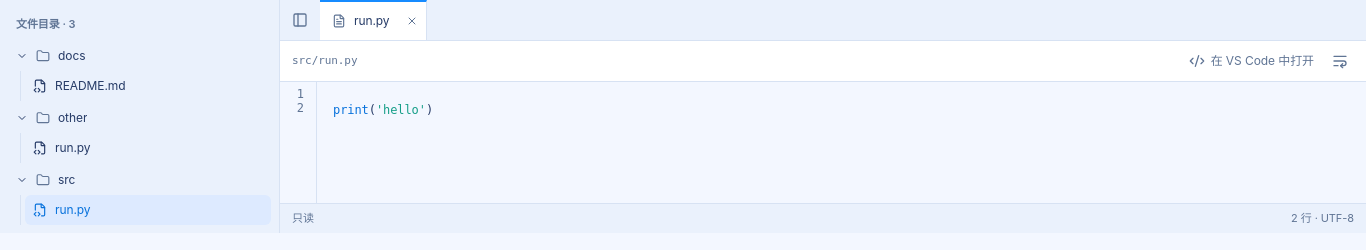
Test: prevents duplicate opening requests and supports retry after failure
Step 1. Click the button "在 VS Code 中打开" → (1251, 61), box top-left (1181, 48), bottom-right (1322, 74)
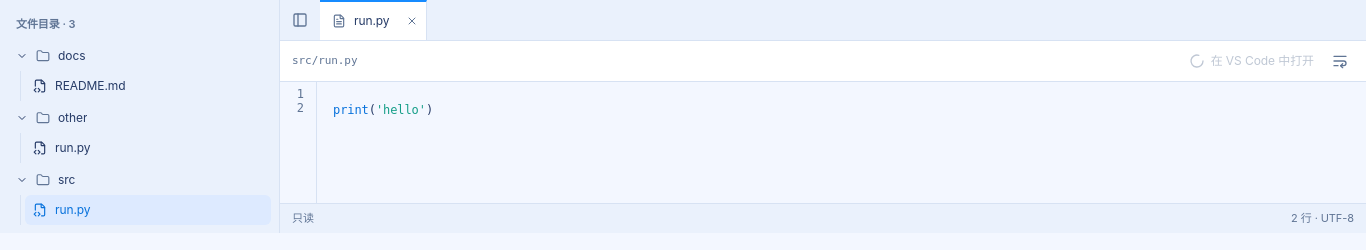
Now the button "在 VS Code 中打开" is disabled
Step 2. Click the button "在 VS Code 中打开" → (1251, 61), box top-left (1181, 48), bottom-right (1322, 74)
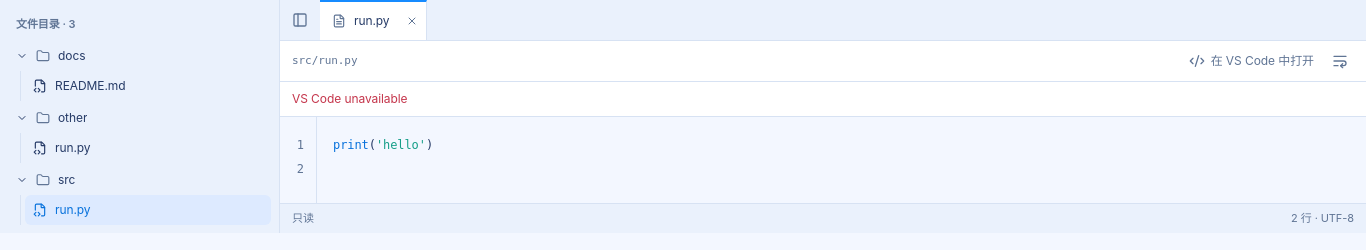
Now the message "VS Code unavailable" is shown, box top-left (280, 82), bottom-right (1365, 117)
Step 3. Click the button "在 VS Code 中打开" → (1251, 61), box top-left (1181, 48), bottom-right (1322, 74)
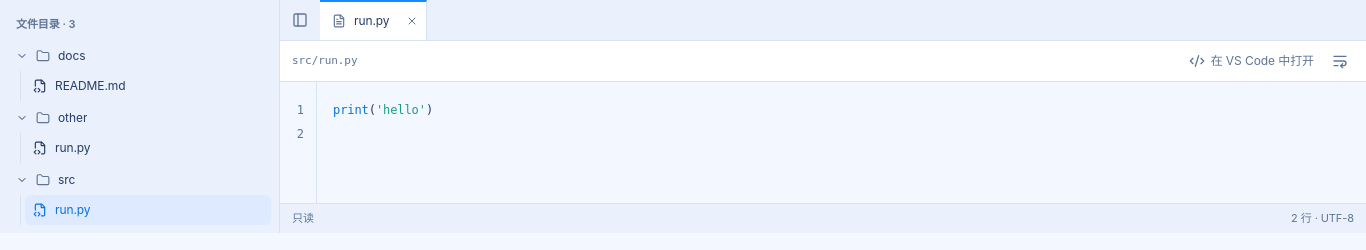
Now the message "VS Code unavailable" is gone
